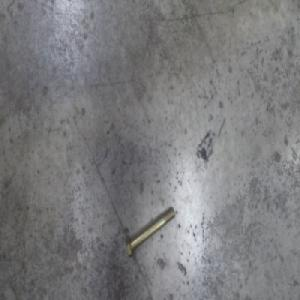Bolt: (125, 204, 175, 261)
